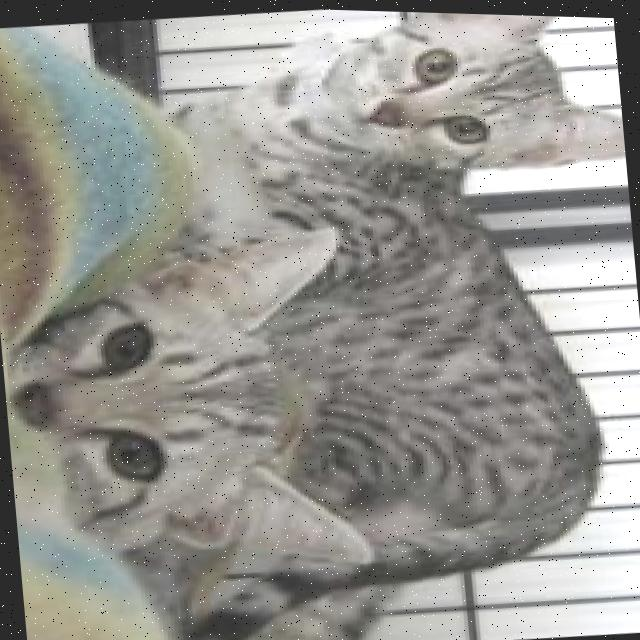Egyptian Mau: (178, 4, 640, 640), (0, 208, 382, 593)
